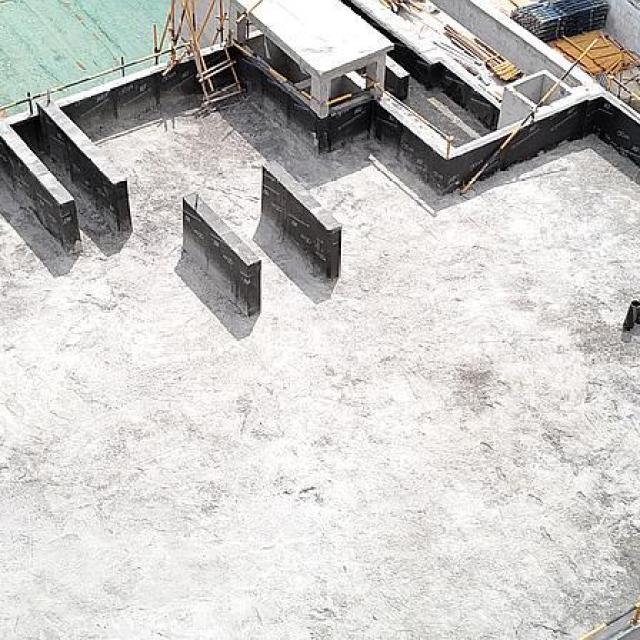Guardrail: (458, 38, 598, 196), (0, 41, 191, 115), (361, 73, 453, 158), (232, 42, 314, 101), (328, 84, 375, 106), (607, 76, 640, 107)
